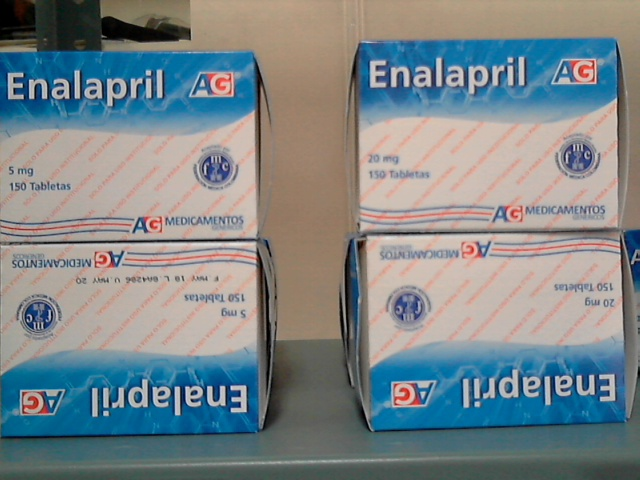AG: (371, 236, 626, 426), (362, 40, 619, 227), (1, 53, 255, 240), (1, 247, 257, 431)
